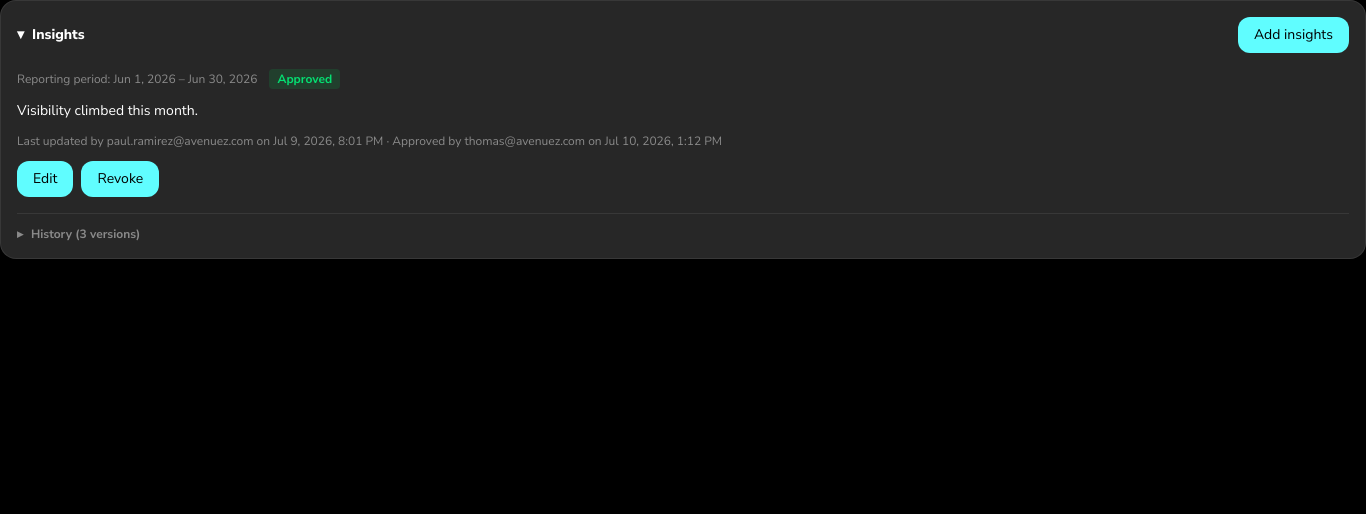
Test: history disclosure › expanding shows every version with its tag
The width and height of the screenshot is (1366, 514).
Click the button "▸ History (3 versions)" at {"x": 79, "y": 234}, box [17,226,140,242]
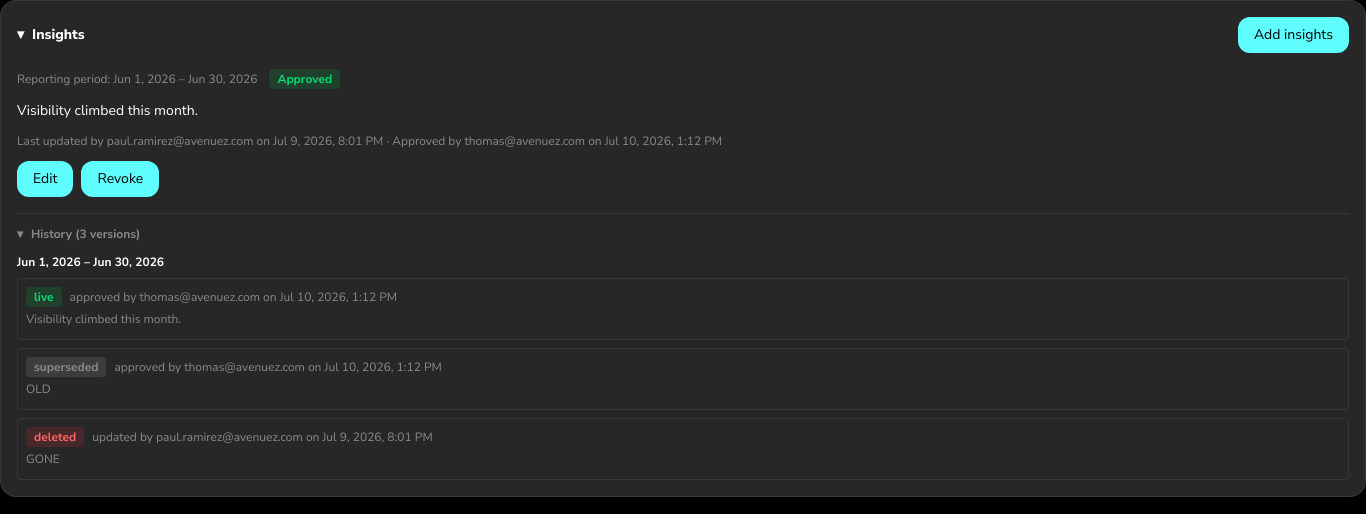
Expected: the text "live" is shown, [26,287,62,307]
Expected: the text "superseded" is shown, [26,357,106,377]
Expected: the text "deleted" is shown, [26,427,84,447]
